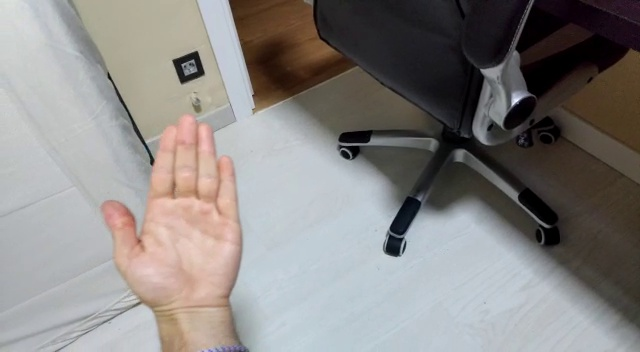Palm: (96, 112, 252, 322)
